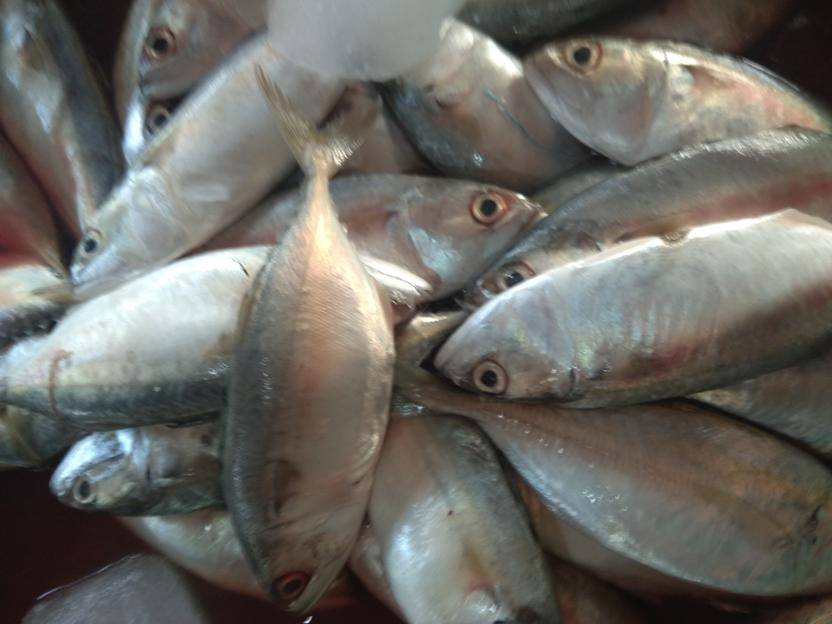Fish head: (432, 278, 581, 403), (524, 33, 668, 159), (67, 165, 196, 284), (394, 178, 536, 284), (248, 516, 365, 615), (48, 428, 165, 514), (120, 1, 220, 99)
Fish tail: (251, 61, 383, 177)
